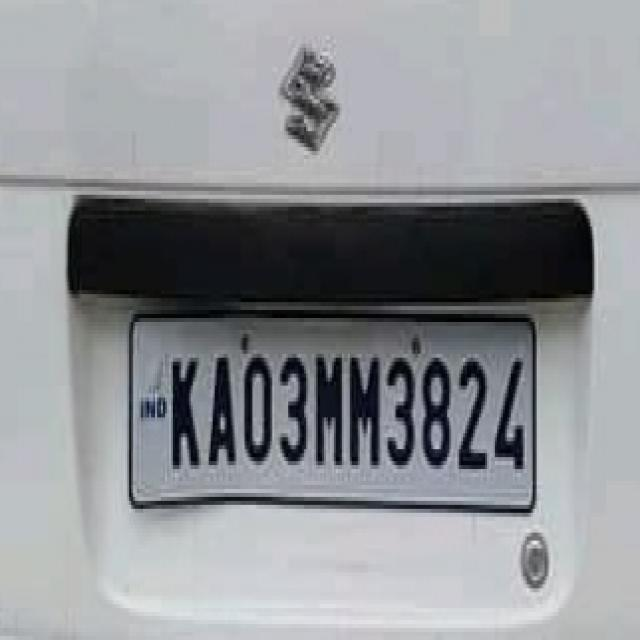0: (240, 342, 274, 468)
3: (277, 342, 311, 478), (384, 348, 417, 480)
4: (494, 342, 532, 492)
8: (420, 350, 453, 476)
A: (206, 342, 237, 473)
K: (166, 342, 202, 470)
M: (348, 348, 382, 480), (314, 346, 346, 476)
